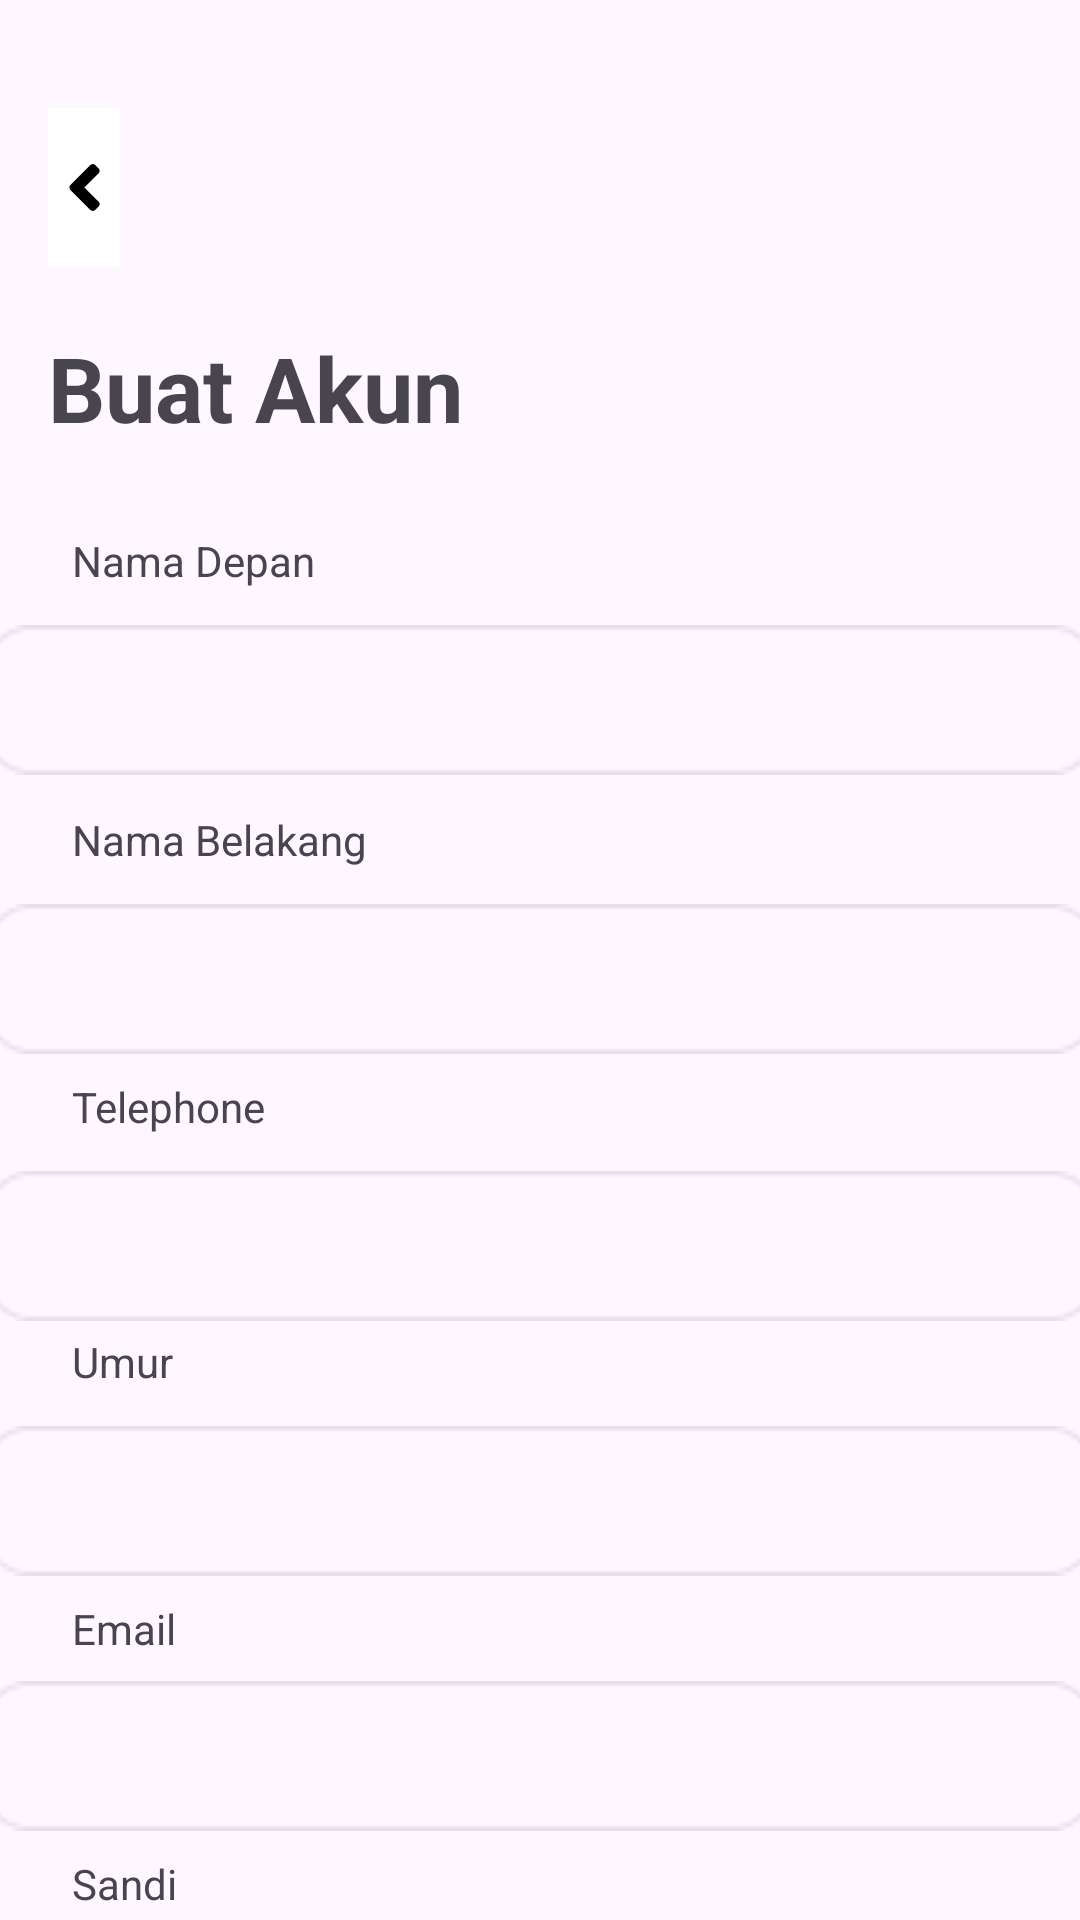

Where icons sit on this 1080 x 1920 app screen, as BBox(x1, y1, x2, y2):
panahkiri: BBox(69, 164, 100, 211)
